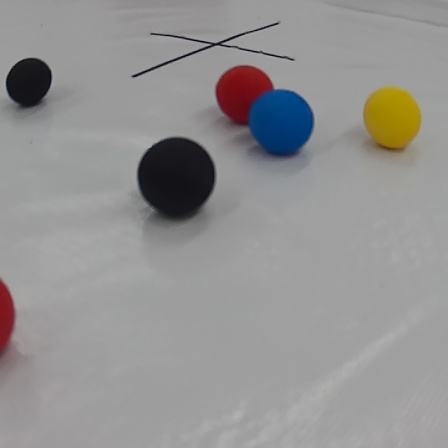black: (125, 134, 221, 219), (4, 57, 53, 108)
blue: (251, 87, 318, 161)
red: (216, 59, 275, 124)
yellow: (363, 85, 422, 150)
